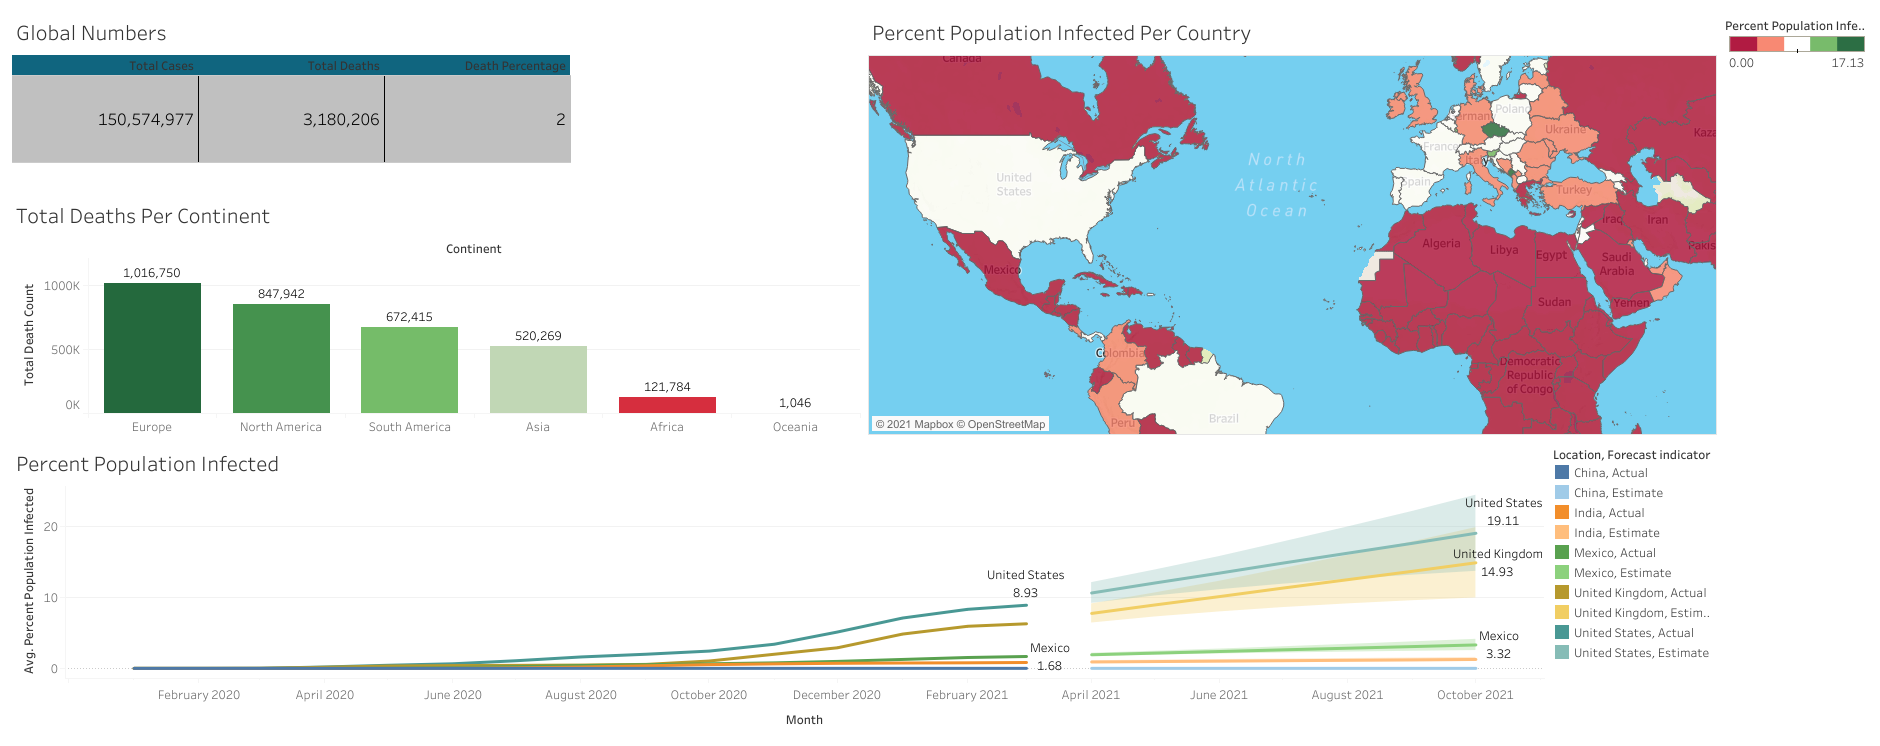

Layout of this report page (visuals, bound fields, positions):
{"tool":"tableau","page":{"name":"Dashboard 1","canvas":[1000,1000],"units":"permille","ordinal":0},"visuals":[{"type":"worksheet","title":"Sheet 1","mark":"Automatic","box":[4.7,11.1,450.5,244.5]},{"type":"worksheet","title":"Sheet 3","mark":"Automatic","box":[455.2,11.1,450.5,576.3]},{"type":"legend","title":"Sheet 3","param":"[federated.1u6pgzk0rhh873144wigi0cf6ax3].[sum:PercentPopulationInfected:qk]","box":[905.7,11.1,89.6,93.9]},{"type":"worksheet","title":"Sheet 2","mark":"Automatic","rows":["TotalDeathCount"],"cols":["location"],"box":[4.7,255.5,450.5,331.9]},{"type":"worksheet","title":"Sheet 4","mark":"Automatic","rows":["PercentPopulationInfected"],"cols":["date"],"box":[4.7,587.4,810.1,401.6]},{"type":"legend","title":"Sheet 4","param":"[federated.0fv2uox0hbhi61182v4641vh426j].[none:Location:nk]\n[federated.0fv2uox0h","box":[814.8,587.4,90.9,401.6]}]}

Visuals, with their boxes on the dashboard's canvas, which has no fixed pixel size, in thousandths of its width and height (x1, y1, x2, y2). These are canvas units, not pixel positions in the 1880x746 screenshot, which may show the page scaled, cropped or inside an application window:
"Sheet 1" worksheet: [5,11,455,256]
"Sheet 3" worksheet: [455,11,906,587]
"Sheet 3" legend: [906,11,995,105]
"Sheet 2" worksheet: [5,256,455,587]
"Sheet 4" worksheet: [5,587,815,989]
"Sheet 4" legend: [815,587,906,989]
